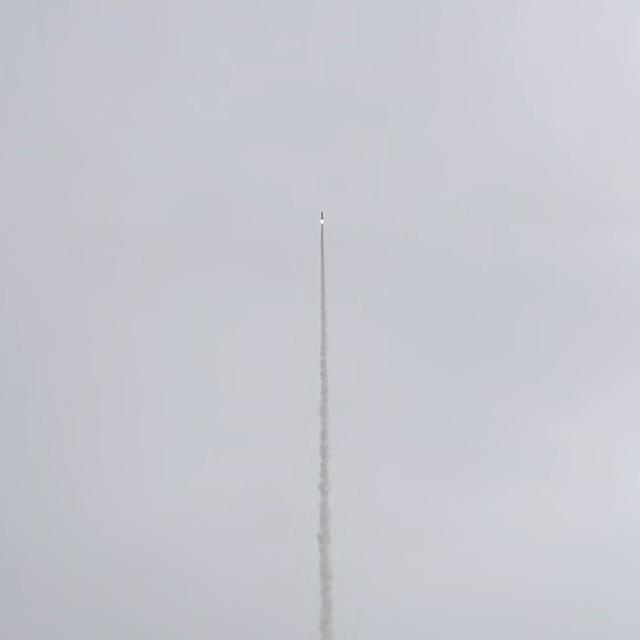smoke_trail_with_rocket: (318, 212, 334, 640)
